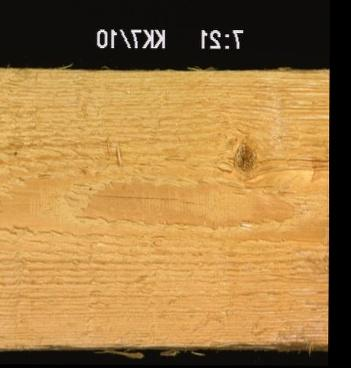sound_knot: (231, 137, 259, 175)
split: (79, 184, 198, 203), (256, 147, 328, 168)
wave: (205, 332, 327, 351)
